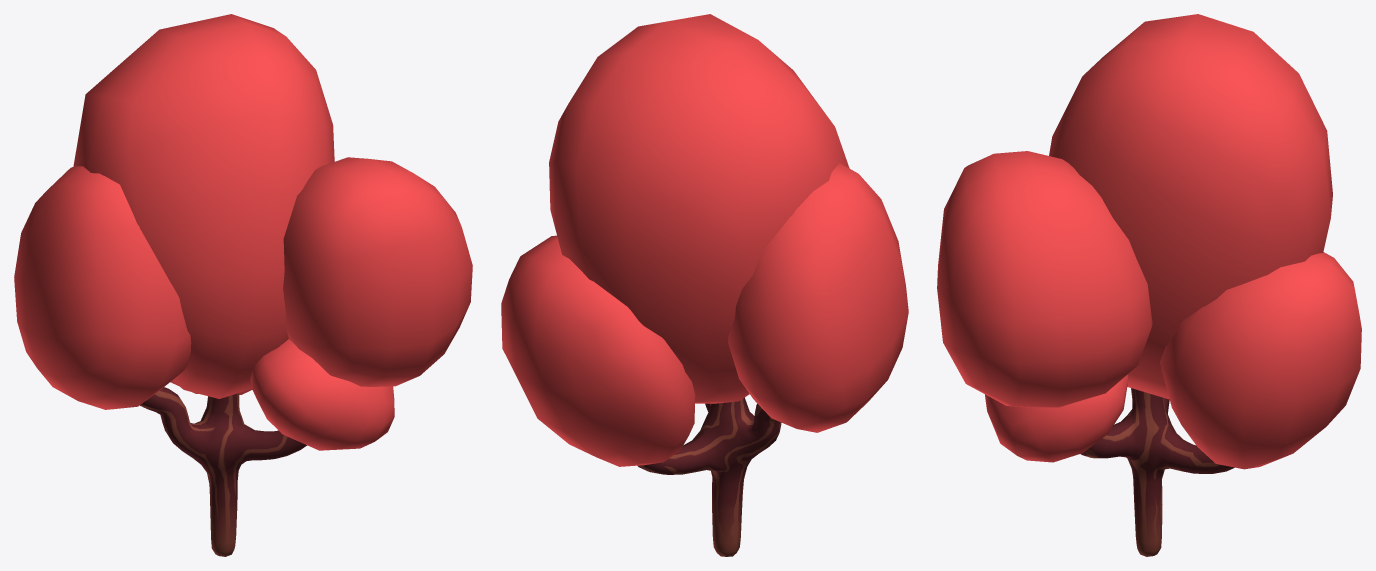
File: Tree.fbx
3 views of the same model, side by side, from view 1: azimuth 30°, elevation 25°; view 2: azimuth 150°, elevation 25°; view 3: azimuth 270°, elevation 25° (orthographic). The views are drawn at different scales.
Visible parts, largest first — view 1: leaves, treecopy.001; view 2: leaves, treecopy.001; view 3: leaves, treecopy.001.
Part boxes in pixels (x1=…): leaves: x1=14, y1=14, x2=472, y2=450; treecopy.001: x1=140, y1=387, x2=306, y2=556; leaves: x1=501, y1=14, x2=908, y2=466; treecopy.001: x1=637, y1=397, x2=781, y2=556; leaves: x1=937, y1=14, x2=1361, y2=469; treecopy.001: x1=1081, y1=388, x2=1234, y2=556.
Bounding box in the file's own units: 405 × 566 × 408.
